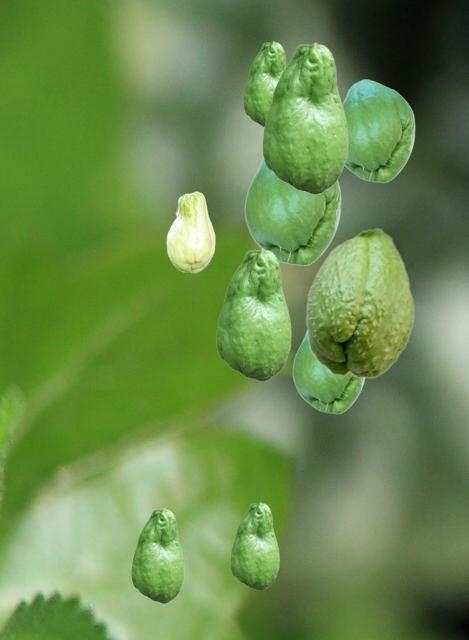sayote: (305, 227, 414, 378), (262, 42, 347, 193), (244, 157, 340, 265), (216, 248, 290, 380), (343, 79, 414, 182), (292, 332, 365, 413), (131, 508, 183, 602), (230, 502, 278, 589), (166, 191, 214, 272), (243, 41, 286, 126)
